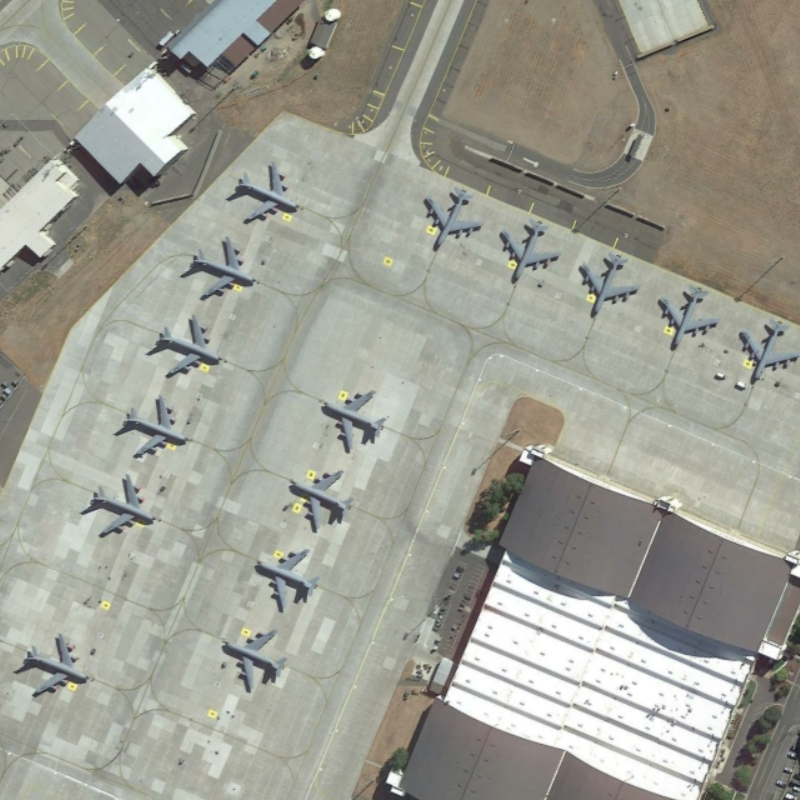A14: (211, 620, 299, 698), (80, 465, 165, 544), (221, 155, 307, 228), (17, 626, 93, 708), (311, 378, 393, 454), (654, 280, 726, 364), (181, 233, 264, 305), (414, 176, 486, 257), (284, 463, 363, 536), (115, 389, 189, 466), (498, 209, 564, 294), (249, 544, 324, 618), (150, 309, 229, 379), (575, 244, 641, 325), (734, 311, 800, 386)
